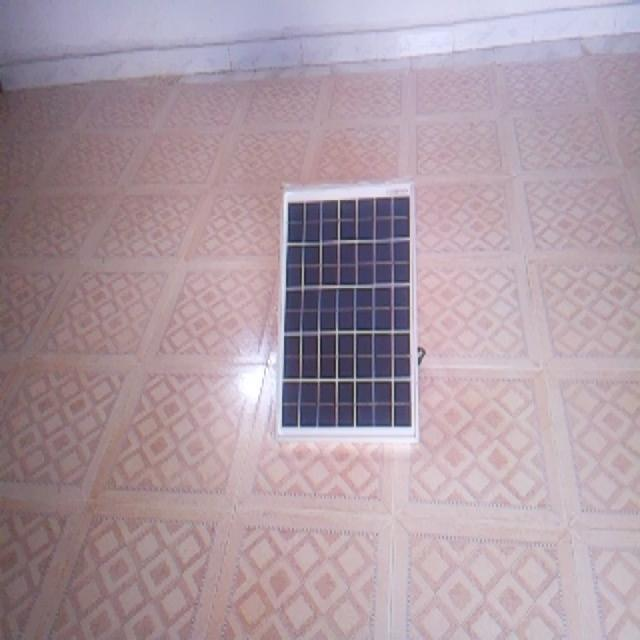Normal Solar Panel: (279, 186, 418, 441)
